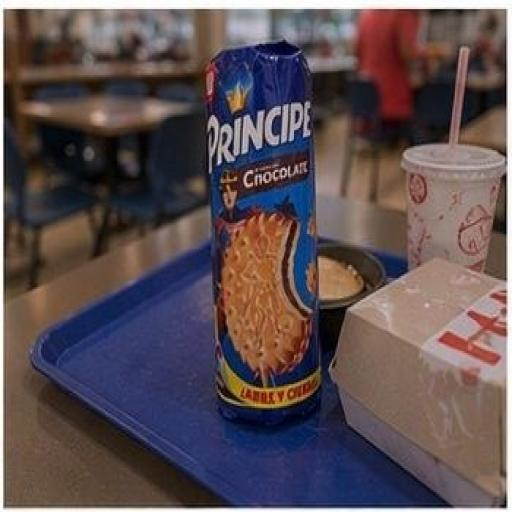prince: (128, 28, 390, 463)
